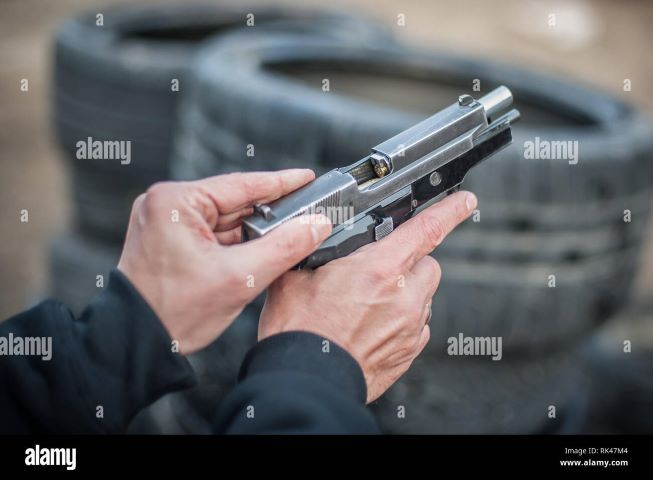pistol: (244, 84, 521, 263)
